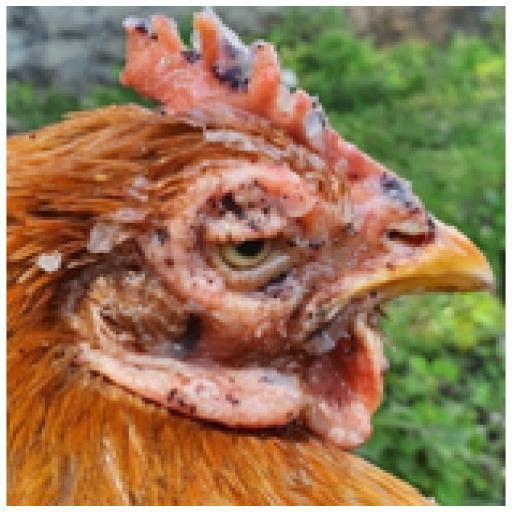disease: (58, 9, 437, 472)
